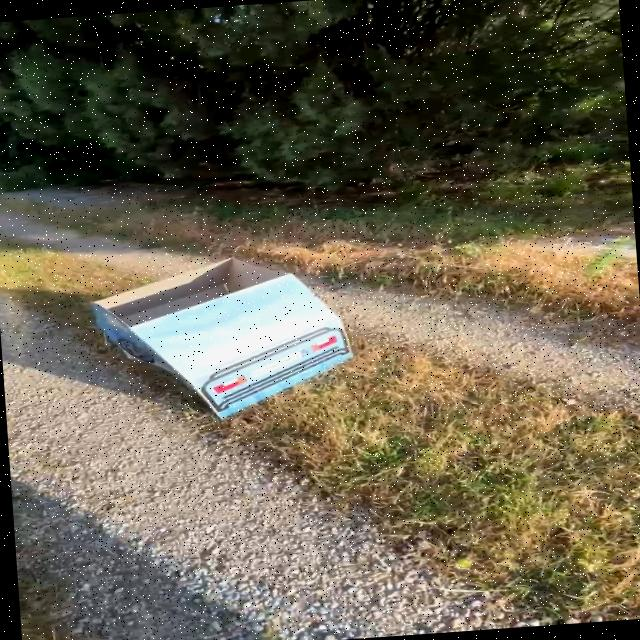blue_car: (66, 232, 413, 452)
